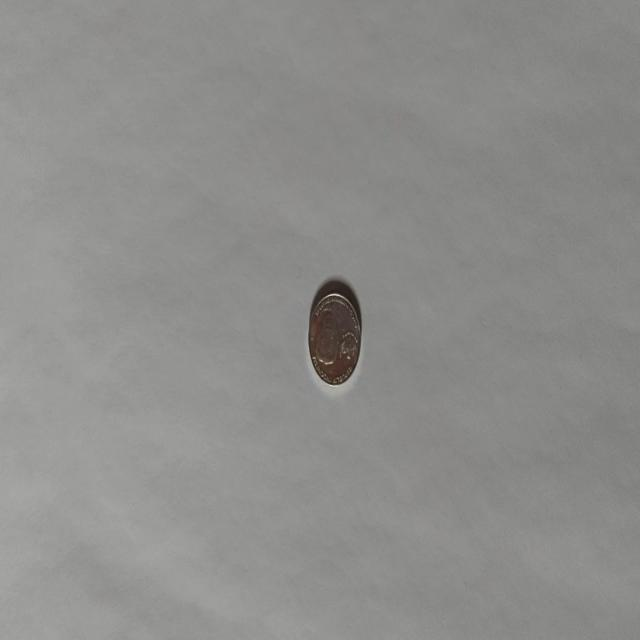seratus rupiah: (308, 289, 362, 386)
